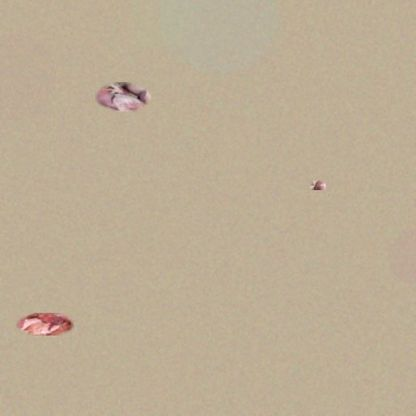rotten: (16, 313, 74, 336)
sprouted: (95, 82, 151, 111), (310, 180, 326, 190)
